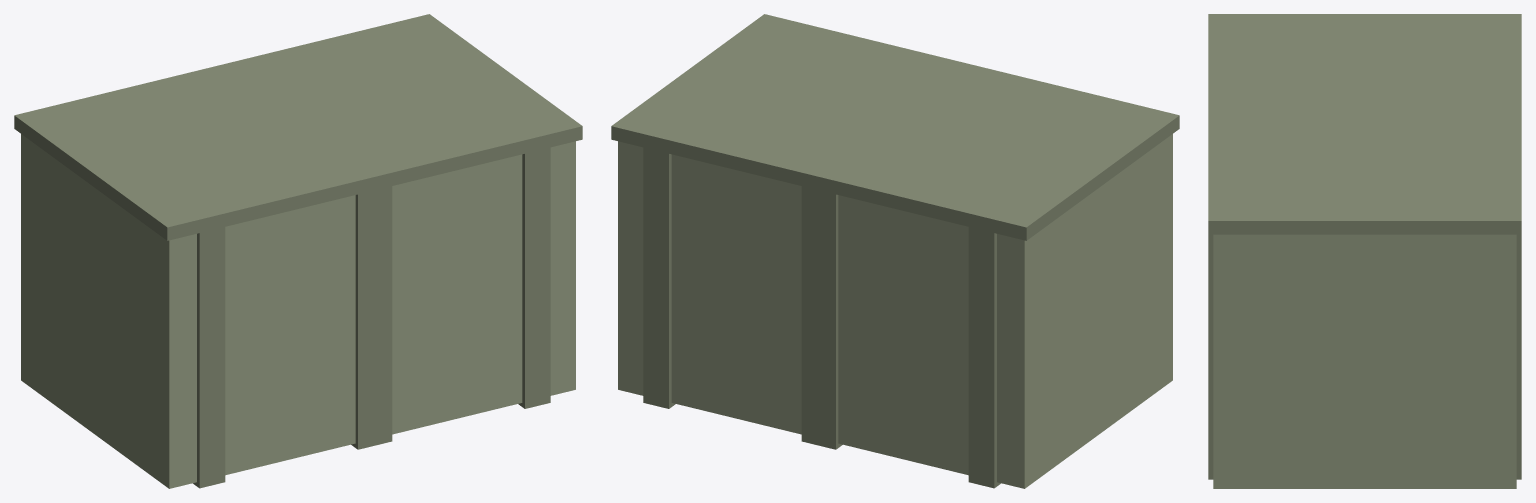
The model's file is loot_crate_army.glb.
3 views of the same model, side by side, from view 1: azimuth 30°, elevation 25°; view 2: azimuth 150°, elevation 25°; view 3: azimuth 270°, elevation 25° (orthographic). The views are drawn at different scales.
Visible parts, largest first — view 1: loot_crate_army; view 2: loot_crate_army; view 3: loot_crate_army.
Part boxes in pixels (x1,y1,x2,y2): loot_crate_army: (14,14,582,488); loot_crate_army: (611,14,1179,488); loot_crate_army: (1208,14,1521,488).
Size of the model in its own units: 0.97 by 0.6 by 0.62.
